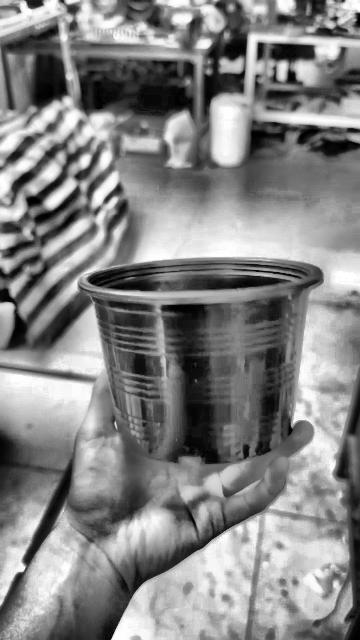pot: (77, 255, 321, 463)
